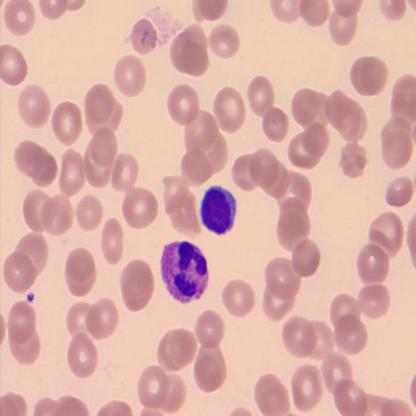Segmented neutrophil: (158, 238, 211, 306)
